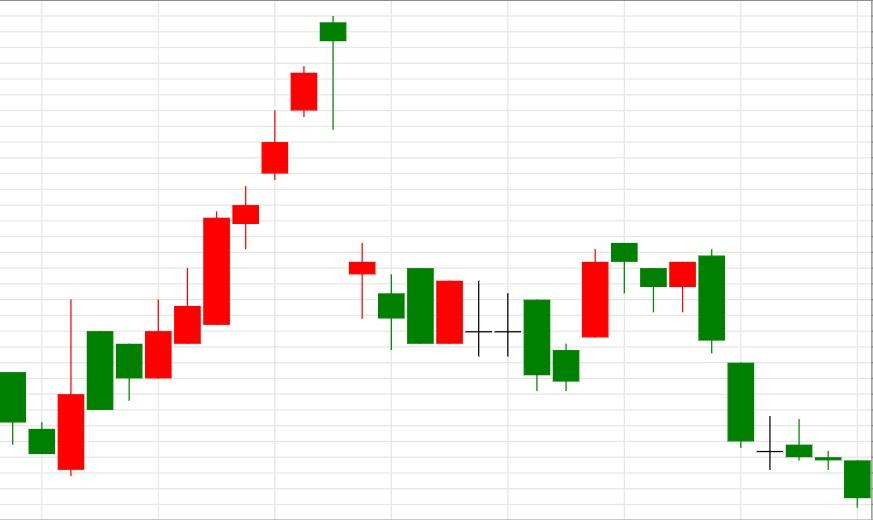hanging_man_fall: (57, 17, 346, 477)
